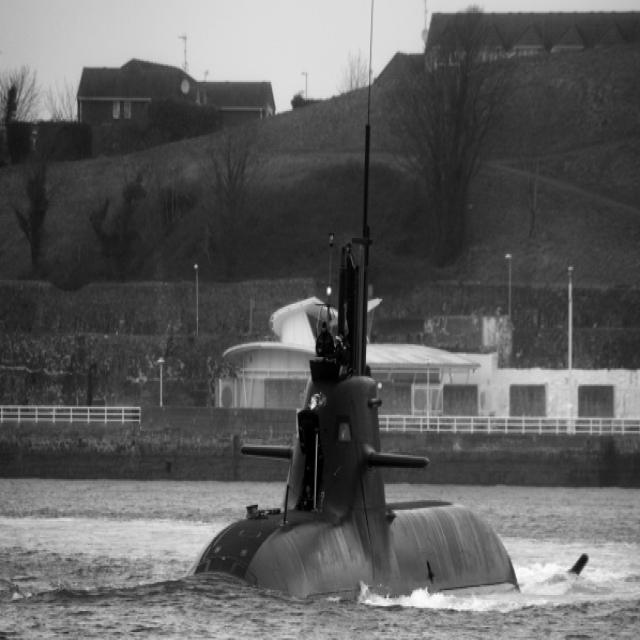submarine: (180, 1, 578, 609)
